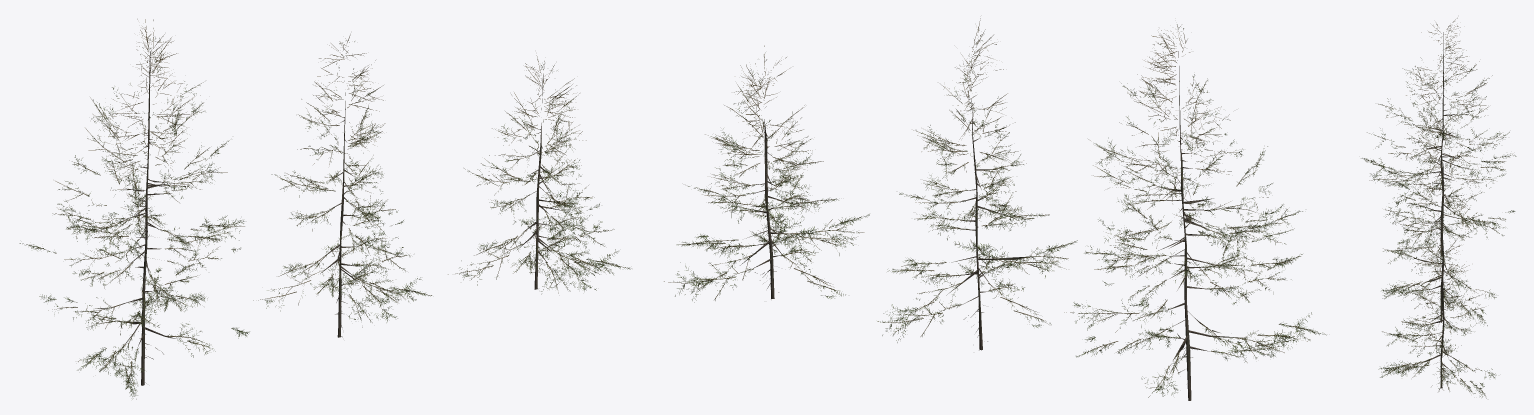
File: fir-sapling-medium-family.glb
3 views of the same model, side by side, from view 1: azimuth 30°, elevation 25°; view 2: azimuth 150°, elevation 25°; view 3: azimuth 270°, elevation 25° (orthographic). The views are drawn at different scales.
Parts seen in each view (by area): view 1: fir_sapling_medium_a_LOD0, fir_sapling_medium_b_LOD0, fir_sapling_medium_c_LOD0; view 2: fir_sapling_medium_a_LOD0, fir_sapling_medium_b_LOD0, fir_sapling_medium_c_LOD0; view 3: fir_sapling_medium_a_LOD0, fir_sapling_medium_b_LOD0, fir_sapling_medium_c_LOD0.
Boxes of the visible parts, box(x1,y1,x2,y2) form: fir_sapling_medium_a_LOD0: box(19, 19, 249, 399); fir_sapling_medium_b_LOD0: box(253, 34, 431, 337); fir_sapling_medium_c_LOD0: box(448, 55, 631, 294); fir_sapling_medium_a_LOD0: box(1064, 24, 1326, 400); fir_sapling_medium_b_LOD0: box(877, 18, 1077, 350); fir_sapling_medium_c_LOD0: box(664, 45, 869, 302); fir_sapling_medium_a_LOD0: box(1361, 18, 1516, 256); fir_sapling_medium_b_LOD0: box(1381, 116, 1496, 325); fir_sapling_medium_c_LOD0: box(1378, 228, 1496, 398).
Bounding box in the file's own units: 14.68 × 8.83 × 5.18.
Materials: 3 (3 with a texture image).
